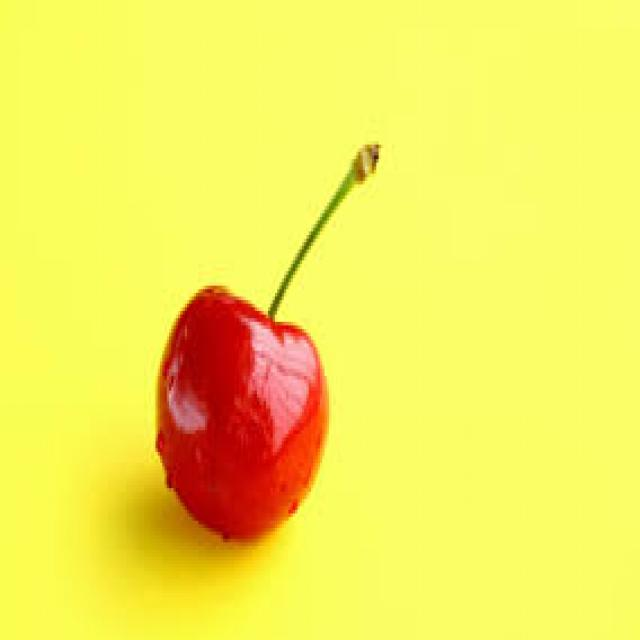organic waste: (151, 275, 327, 542)
